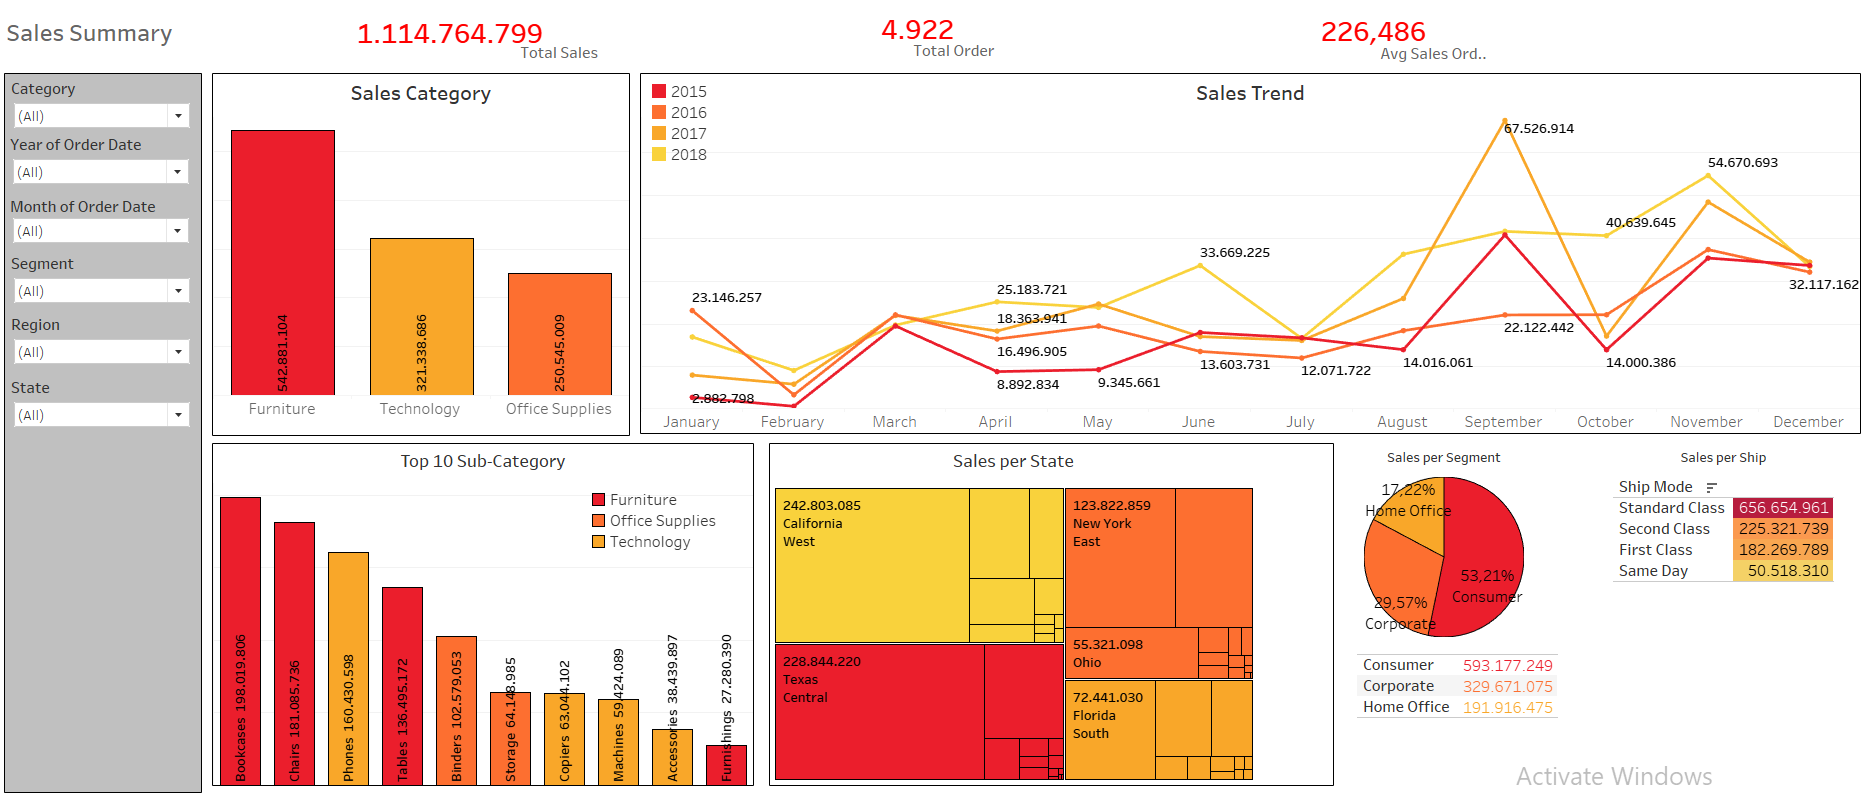

The page's visual inventory and layout, read from the dashboard file:
{"tool":"tableau","page":{"name":"Dashboard 1","canvas":[1000,1000],"units":"permille","ordinal":0},"visuals":[{"type":"text","box":[5.4,14.8,105,71.5]},{"type":"worksheet","title":"Count Order","mark":"Automatic","box":[458.1,23.4,74.8,45.6]},{"type":"worksheet","title":"Avg Sales Order","mark":"Automatic","box":[697.6,24.7,81.5,49.3]},{"type":"worksheet","title":"Sum Sales","mark":"Automatic","box":[187.7,27.1,124.3,46.9]},{"type":"text","box":[485.8,54.2,60.4,37]},{"type":"text","box":[277.6,56.7,60.4,37]},{"type":"text","box":[733.2,58,60.4,37]},{"type":"worksheet","title":"Sales per Category","mark":"Bar","rows":["Sales"],"cols":["Category"],"box":[115.9,101.1,221.5,447.6]},{"type":"worksheet","title":"Sales Trend per Month/Year","mark":"Automatic","rows":["Sales"],"cols":["Order Date"],"box":[342.8,101.1,647,445.1]},{"type":"filter","title":"Sales per Category","param":"[federated.0luyqi410bobgk1dytjjm094momh].[none:Category:nk]","box":[9.7,107.3,96.6,69]},{"type":"legend","title":"Sales Trend per Month/Year","param":"[federated.0luyqi410bobgk1dytjjm094momh].[yr:Order Date:ok]","box":[347.6,111,57.9,106]},{"type":"filter","title":"Sales Trend per Month/Year","param":"[federated.0luyqi410bobgk1dytjjm094momh].[yr:Order Date:ok]","box":[9.1,176.3,96.6,65.3]},{"type":"filter","title":"Sales Trend per Month/Year","param":"[federated.0luyqi410bobgk1dytjjm094momh].[mn:Order Date:ok]","box":[9.1,252.8,96.6,58]},{"type":"filter","title":"Sales per Segment","param":"[federated.0luyqi410bobgk1dytjjm094momh].[none:Segment:nk]","box":[9.7,323.1,96.6,66.6]},{"type":"filter","title":"Sales per State","param":"[federated.0luyqi410bobgk1dytjjm094momh].[none:Region:nk]","box":[9.7,398.3,96.6,74]},{"type":"filter","title":"Sales per State","param":"[federated.0luyqi410bobgk1dytjjm094momh].[none:State:nk]","box":[9.7,476,96.6,83.9]},{"type":"worksheet","title":"Top 10 Sub-Category","mark":"Bar","rows":["Sales"],"cols":["Sub-Category"],"box":[115.9,557.3,287.3,422.9]},{"type":"worksheet","title":"Sales per State","mark":"Automatic","box":[411,557.3,299.3,422.9]},{"type":"worksheet","title":"Sales per Segment","mark":"Pie","box":[726,558.6,261.9,268.8]},{"type":"worksheet","title":"Sales per Ship","mark":"Square","rows":["Ship Mode"],"box":[858.2,558.6,131,177.6]},{"type":"legend","title":"Sales per Category","param":"[federated.0luyqi410bobgk1dytjjm094momh].[none:Category:nk]","box":[315,614.1,84.5,81.4]},{"type":"worksheet","title":"Sales per Segment (2)","mark":"Automatic","rows":["Segment"],"box":[722.4,817.5,116.5,86.3]}]}

Visuals, with their boxes on the dashboard's canvas, which has no fixed pixel size, in thousandths of its width and height (x1, y1, x2, y2). These are canvas units, not pixel positions in the 1867x795 screenshot, which may show the page scaled, cropped or inside an application window:
text: (5,15,110,86)
"Count Order" worksheet: (458,23,533,69)
"Avg Sales Order" worksheet: (698,25,779,74)
"Sum Sales" worksheet: (188,27,312,74)
text: (486,54,546,91)
text: (278,57,338,94)
text: (733,58,794,95)
"Sales per Category" worksheet (Bar marks): (116,101,337,549)
"Sales Trend per Month/Year" worksheet: (343,101,990,546)
"Sales per Category" filter: (10,107,106,176)
"Sales Trend per Month/Year" legend: (348,111,406,217)
"Sales Trend per Month/Year" filter: (9,176,106,242)
"Sales Trend per Month/Year" filter: (9,253,106,311)
"Sales per Segment" filter: (10,323,106,390)
"Sales per State" filter: (10,398,106,472)
"Sales per State" filter: (10,476,106,560)
"Top 10 Sub-Category" worksheet (Bar marks): (116,557,403,980)
"Sales per State" worksheet: (411,557,710,980)
"Sales per Segment" worksheet (Pie marks): (726,559,988,827)
"Sales per Ship" worksheet (Square marks): (858,559,989,736)
"Sales per Category" legend: (315,614,400,696)
"Sales per Segment (2)" worksheet: (722,818,839,904)
